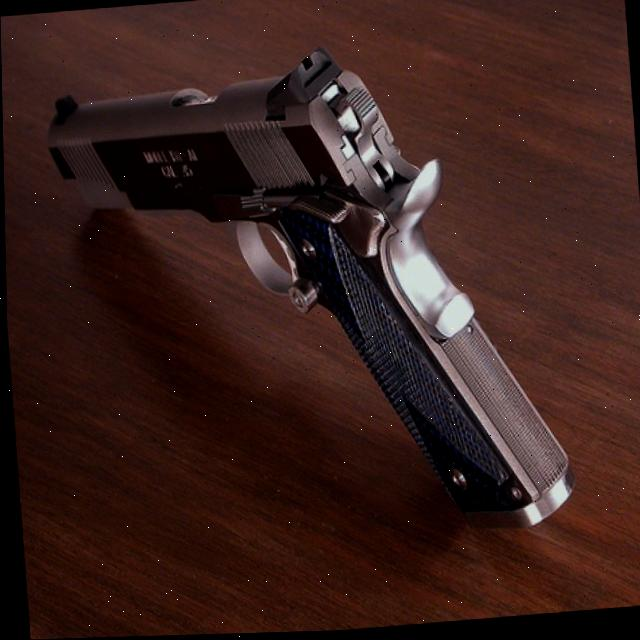pistol: (39, 28, 579, 572)
